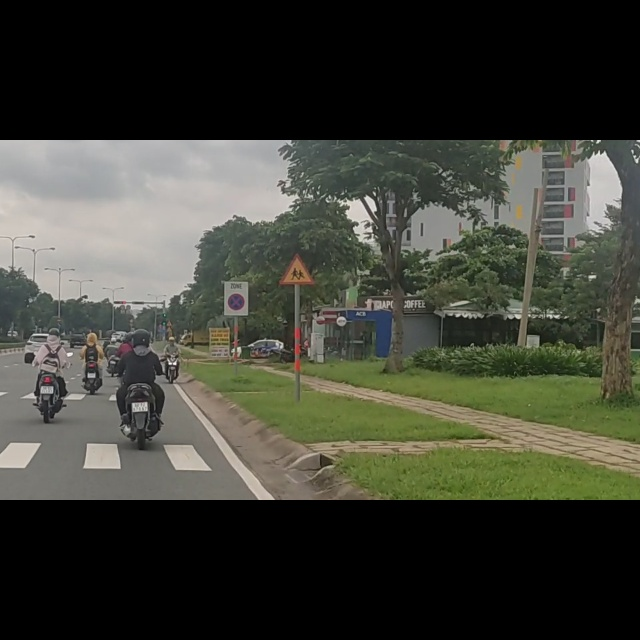bien_cam: (279, 200, 315, 260), (228, 271, 245, 302)
